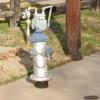a fire hydrant: (26, 29, 56, 85)
